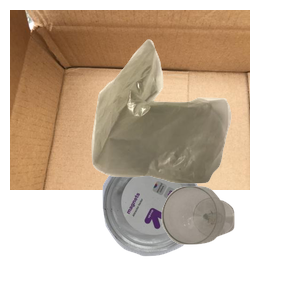cardboard: (10, 10, 250, 190)
glass: (159, 184, 300, 300)
plastic: (100, 152, 293, 300)
trash: (89, 37, 300, 213)
